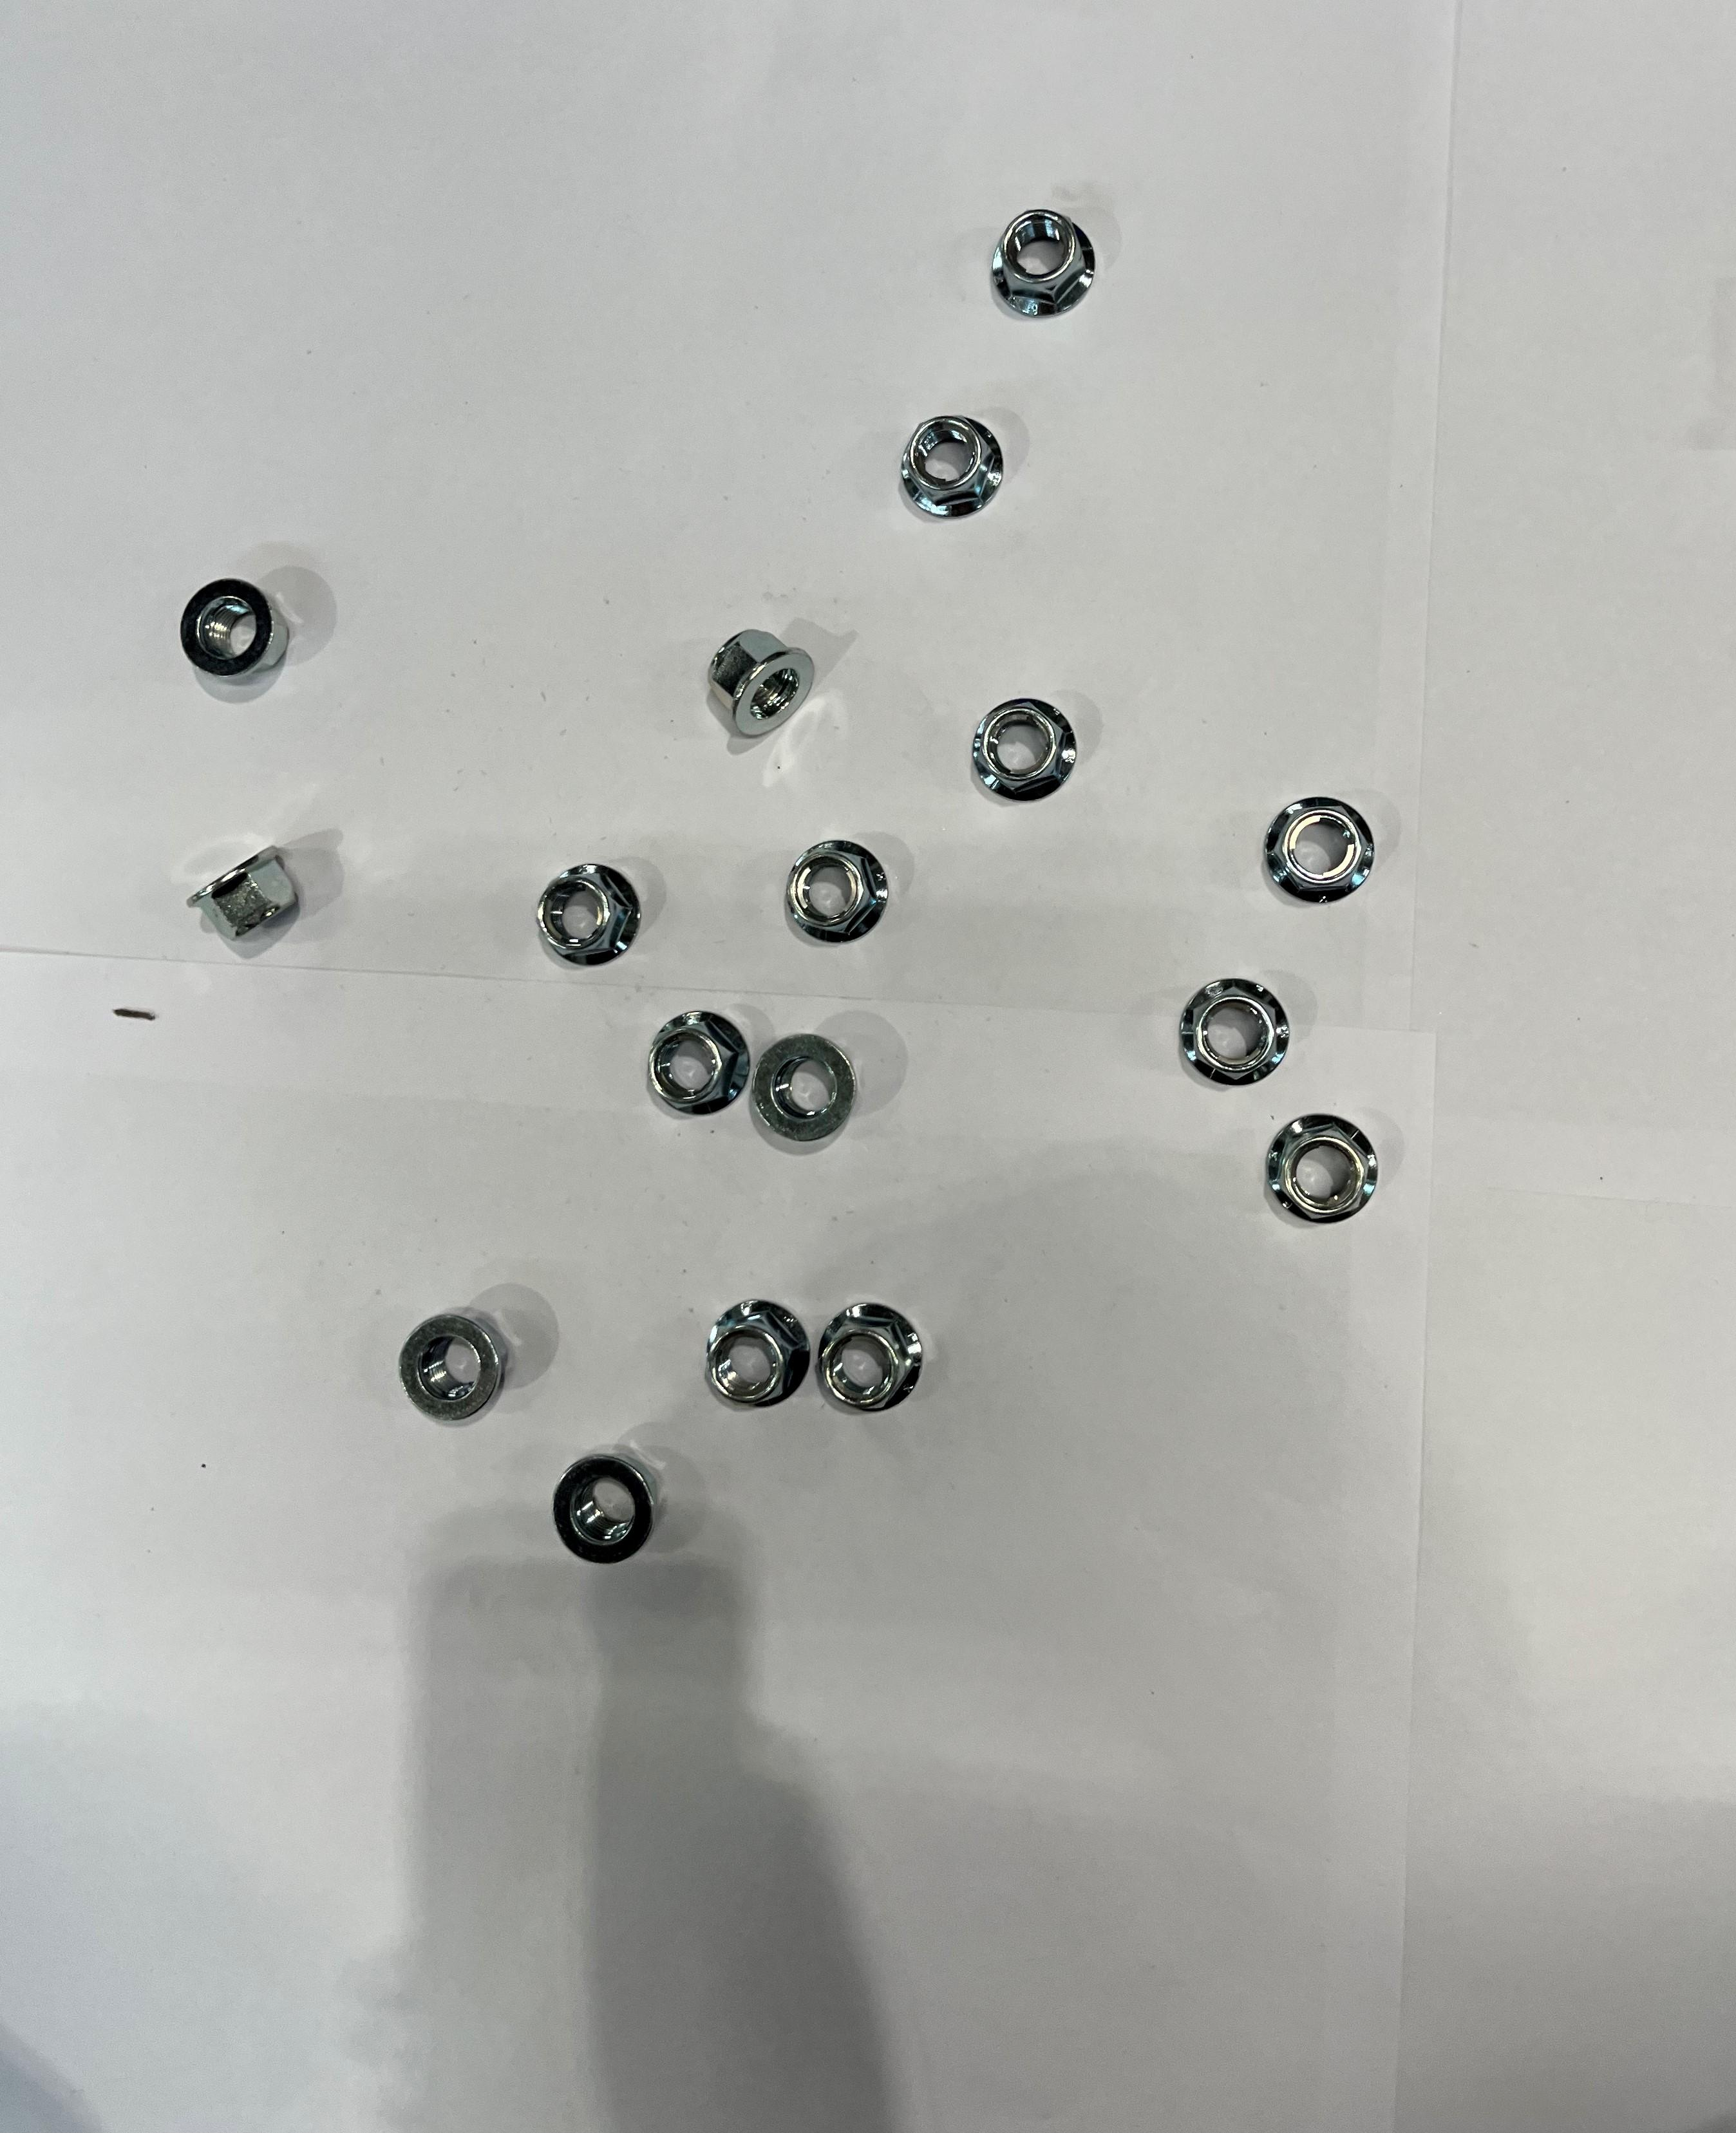Type B: (400, 1311, 510, 1424), (1268, 1114, 1378, 1224), (554, 1451, 661, 1564), (1182, 978, 1290, 1088), (820, 1300, 923, 1416), (709, 629, 817, 737), (1267, 797, 1375, 905), (188, 847, 306, 944), (182, 578, 292, 682), (992, 209, 1097, 319), (973, 698, 1079, 801), (709, 1300, 810, 1408), (902, 416, 1004, 521), (647, 1010, 749, 1114), (753, 1033, 854, 1139), (539, 863, 641, 966), (788, 838, 887, 942)
